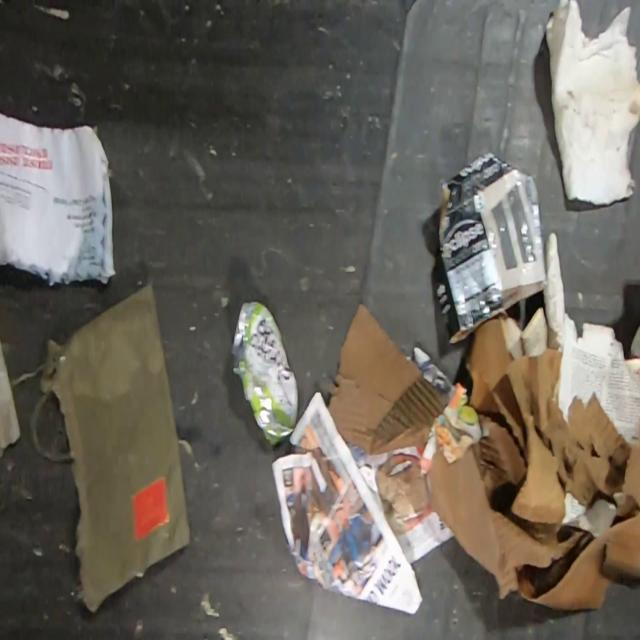cardboard: (506, 348, 632, 544), (435, 151, 547, 343), (324, 303, 448, 458)
metal: (230, 296, 299, 448)
soft_plastic: (37, 279, 193, 616)
